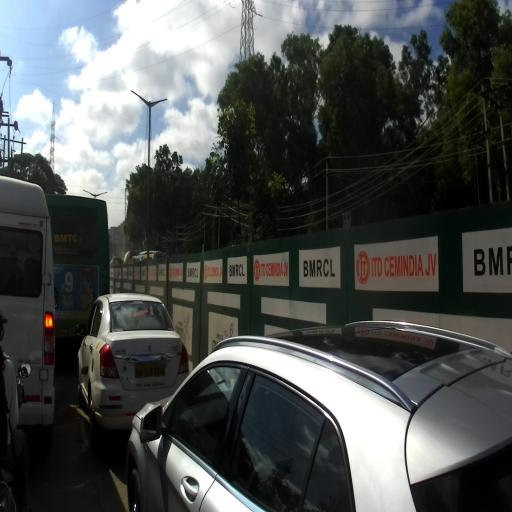street_light_0: (131, 90, 151, 110), (148, 99, 168, 110), (82, 189, 96, 198), (95, 192, 108, 198)
